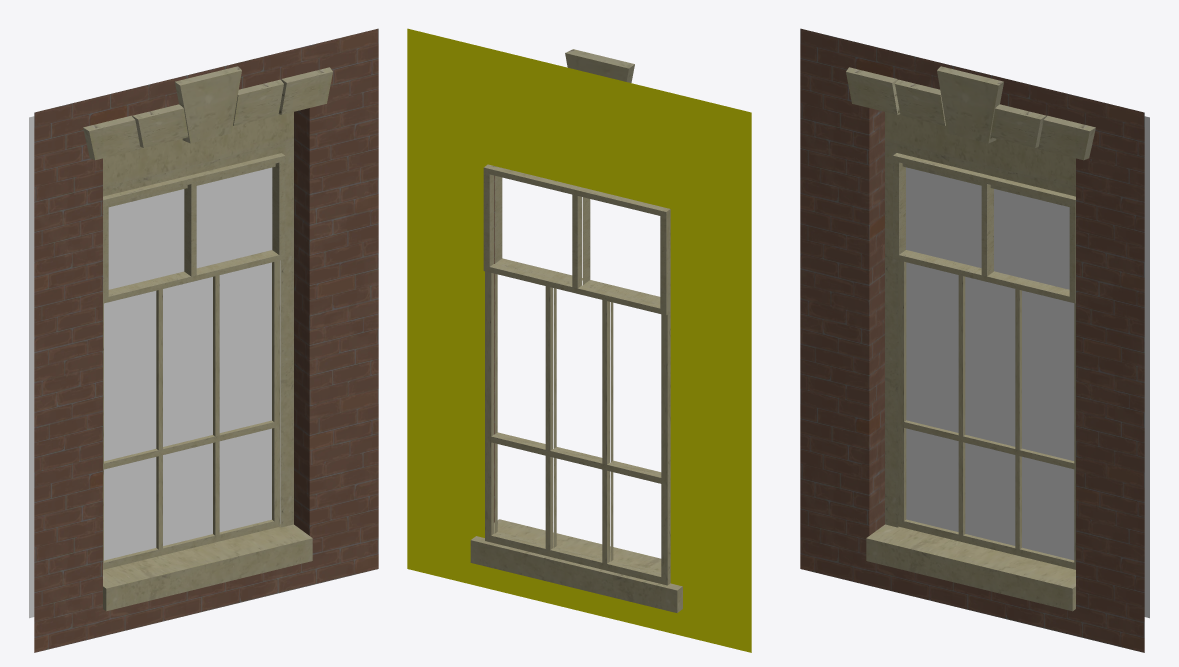
File: brick-window-trim.glb
3 views of the same model, side by side, from view 1: azimuth 30°, elevation 25°; view 2: azimuth 150°, elevation 25°; view 3: azimuth 330°, elevation 25° (orthographic).
Visible parts, largest first — view 1: Brick_Window_Trim; view 2: Brick_Window_Trim; view 3: Brick_Window_Trim.
Boxes of the visible parts, x1=… form: Brick_Window_Trim: x1=29, y1=28, x2=378, y2=652; Brick_Window_Trim: x1=407, y1=28, x2=751, y2=652; Brick_Window_Trim: x1=800, y1=28, x2=1149, y2=652.
Size of the model in its own units: 2 by 3 by 0.304.
5 materials, 2 textured.
